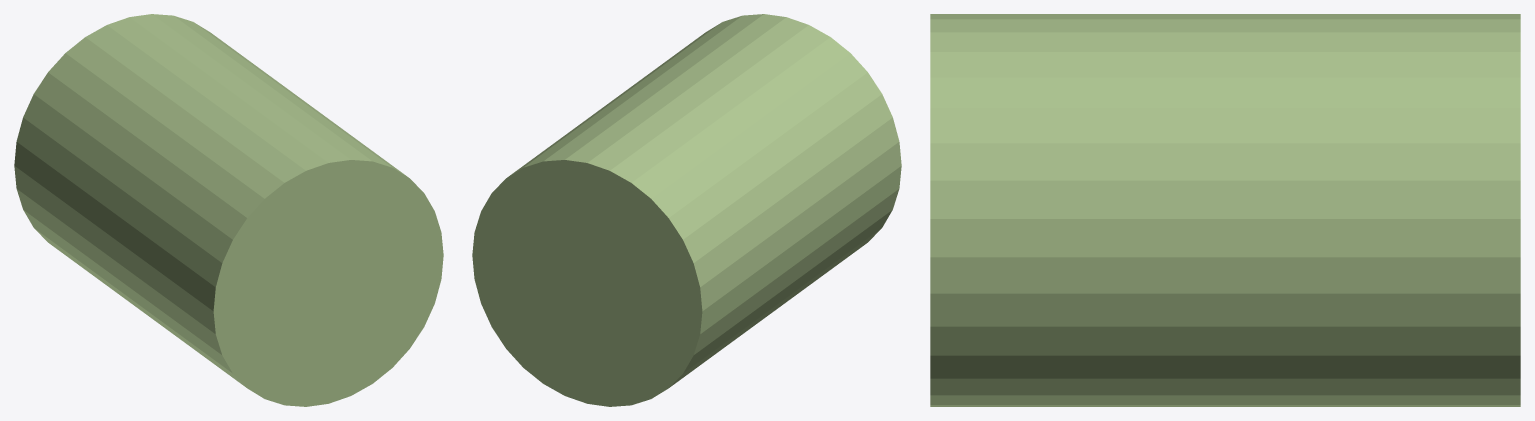
3 views of the same model, side by side, from view 1: azimuth 30°, elevation 25°; view 2: azimuth 150°, elevation 25°; view 3: azimuth 270°, elevation 25° (orthographic). The views are drawn at different scales.
Parts seen in each view (by area): view 1: world; view 2: world; view 3: world.
Part boxes in pixels (x1,y1,x2,y2): world: (14,14,443,406); world: (472,14,901,406); world: (930,14,1520,406).
Bounding box in the file's own units: 2 × 2 × 3.
